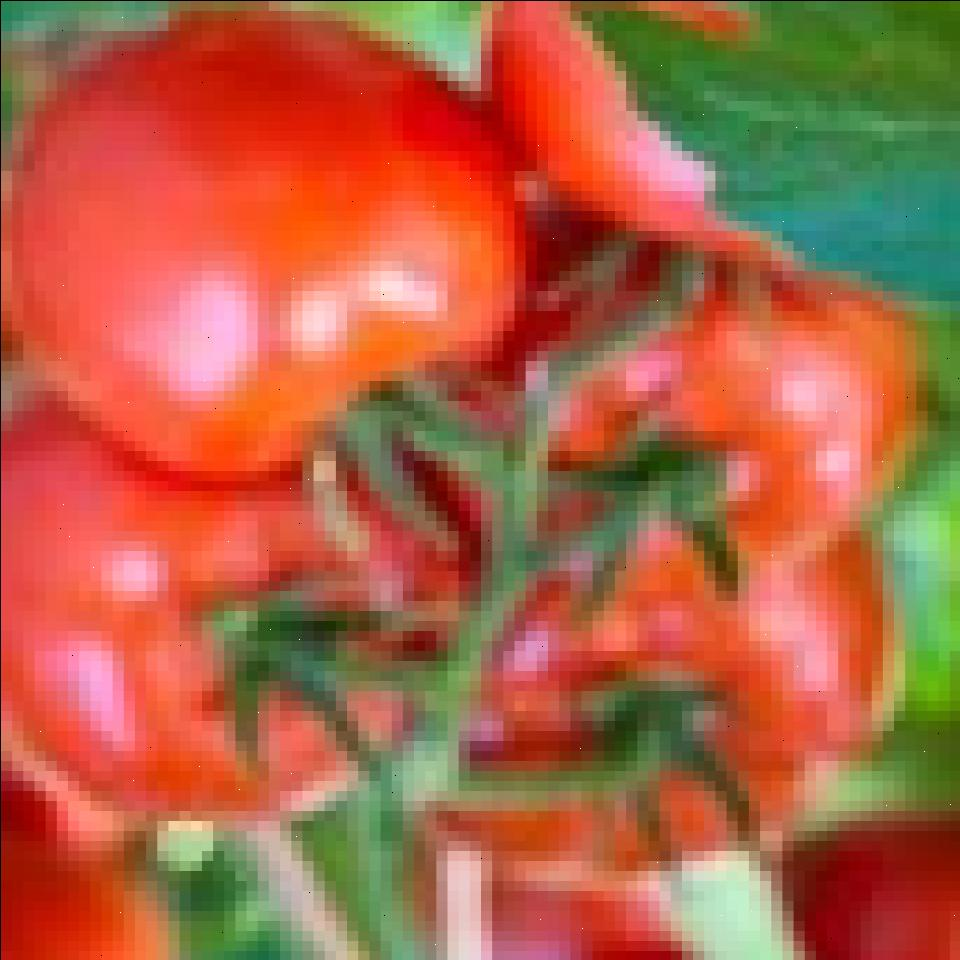Healthy: (6, 15, 530, 474), (7, 439, 422, 814), (426, 517, 868, 836)
